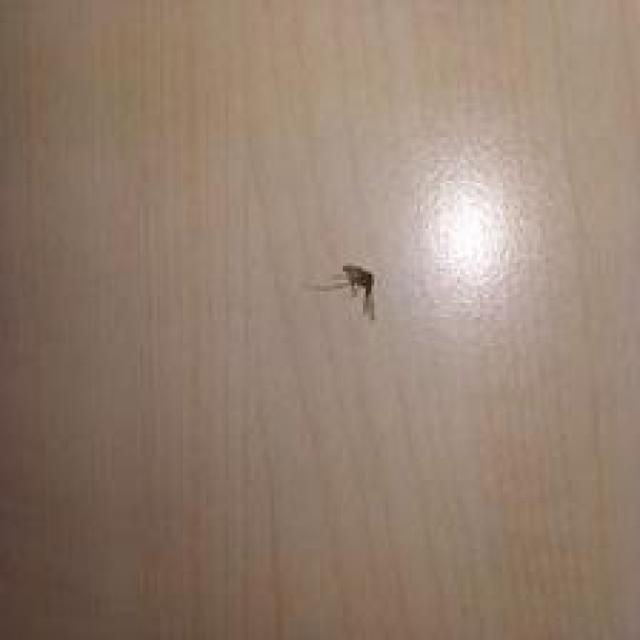Culex: (303, 264, 377, 322)
